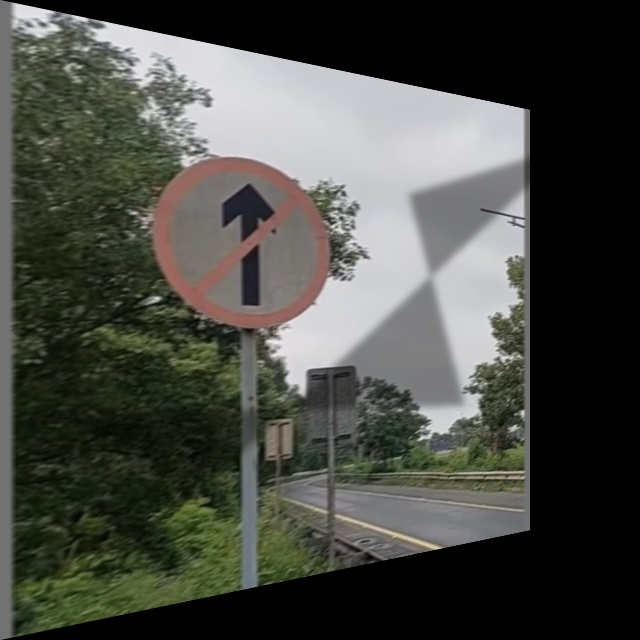No_Entry: (152, 150, 329, 327)
